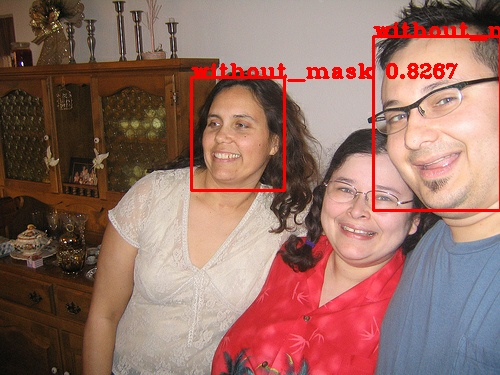without_mask: (366, 9, 500, 227), (320, 130, 427, 272), (190, 73, 302, 194)
